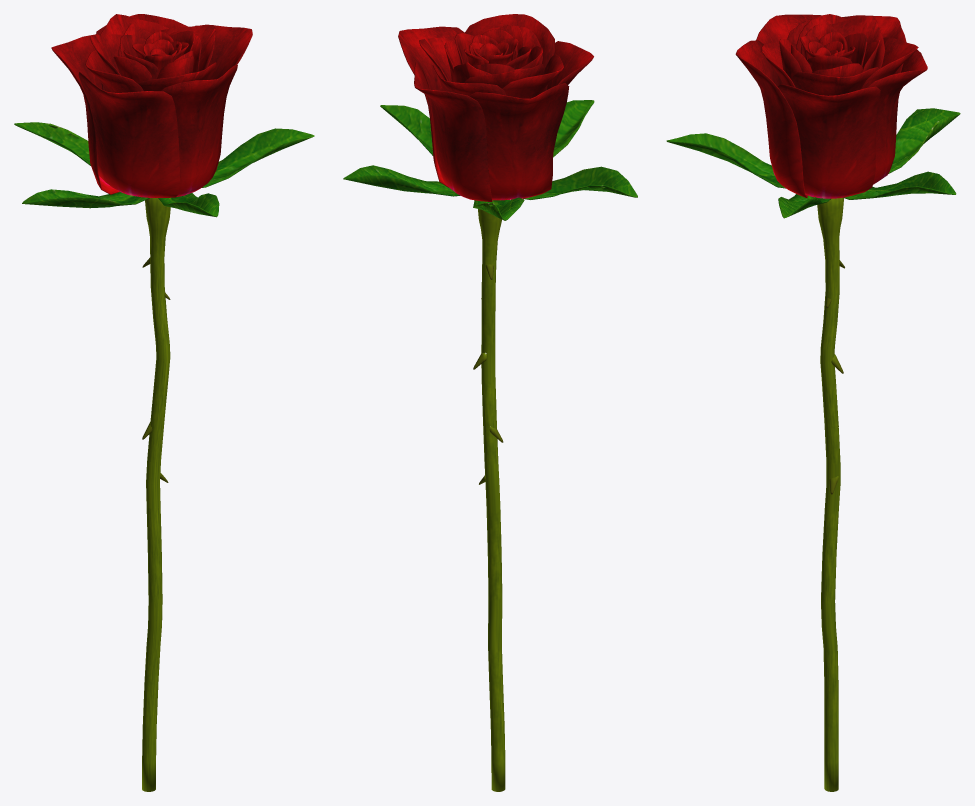
Rendered from rose2.fbx.
The picture shows the model from 3 angles, left to right: view 1: azimuth 30°, elevation 25°; view 2: azimuth 150°, elevation 25°; view 3: azimuth 270°, elevation 25°; orthographic projection.
Parts seen in each view (by area): view 1: rose:rose1; view 2: rose:rose1; view 3: rose:rose1.
Boxes of the visible parts, left/top/right/bottom form: rose:rose1: left=14, top=14, right=314, bottom=791; rose:rose1: left=343, top=14, right=637, bottom=791; rose:rose1: left=666, top=14, right=960, bottom=791.
Bounding box in the file's own units: 28.42 × 73.68 × 26.05.
1 material, 1 textured.
